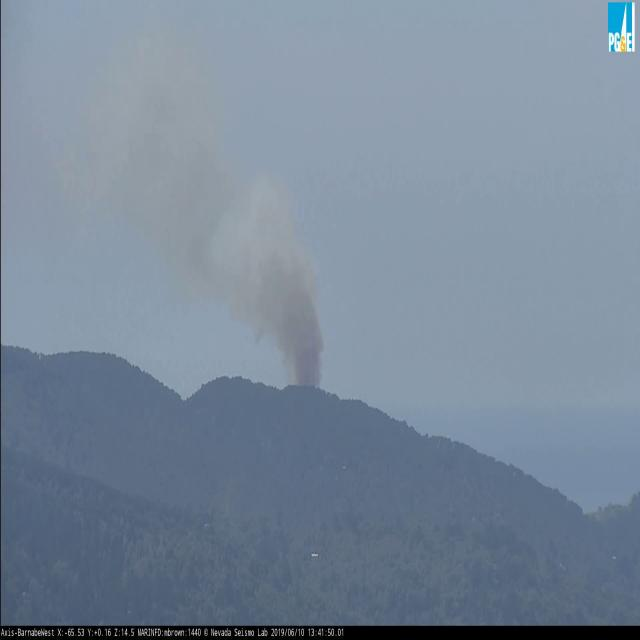smoke: (46, 0, 327, 387)
